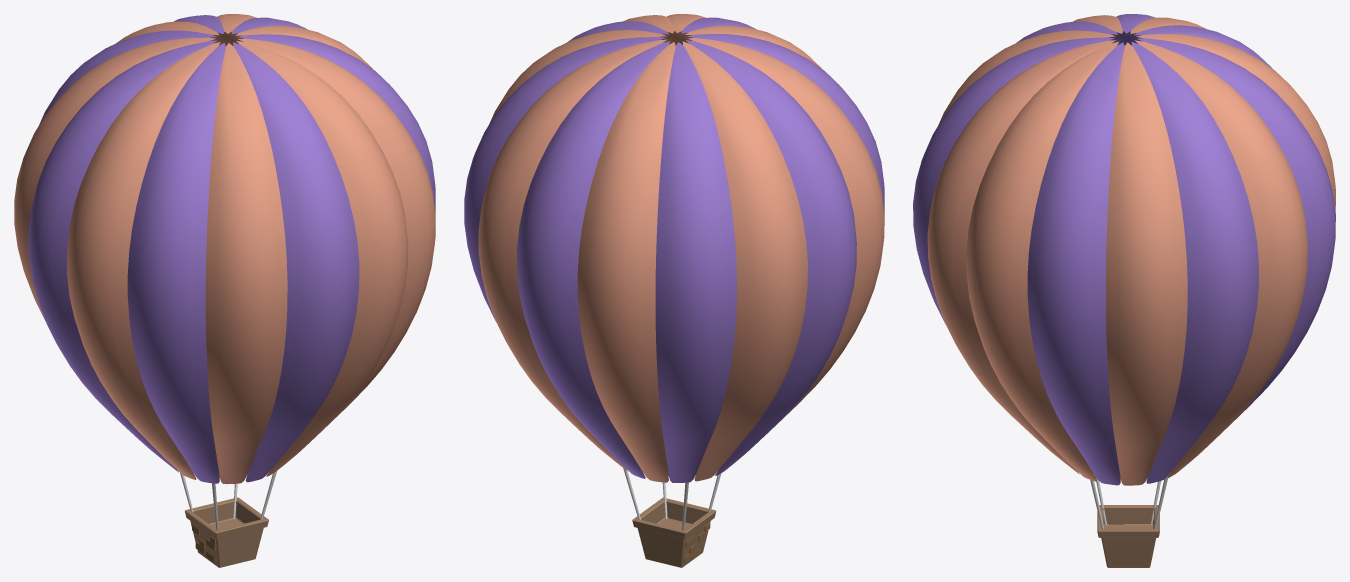
The model's file is balloon.glb.
3 renders of one model, left to right at view 1: azimuth 30°, elevation 25°; view 2: azimuth 150°, elevation 25°; view 3: azimuth 270°, elevation 25°, orthographic.
Parts seen in each view (by area): view 1: 球.003, 立方体; view 2: 球.003, 立方体; view 3: 球.003, 立方体.
Part boxes in pixels (box(x1,y1,x2,y2)): 球.003: box(14, 14, 435, 484); 立方体: box(185, 497, 268, 567); 球.003: box(464, 14, 884, 482); 立方体: box(632, 497, 716, 567); 球.003: box(913, 14, 1335, 485); 立方体: box(1097, 505, 1159, 567).
Bounding box in the file's own units: 1.72 × 2.33 × 1.72.
